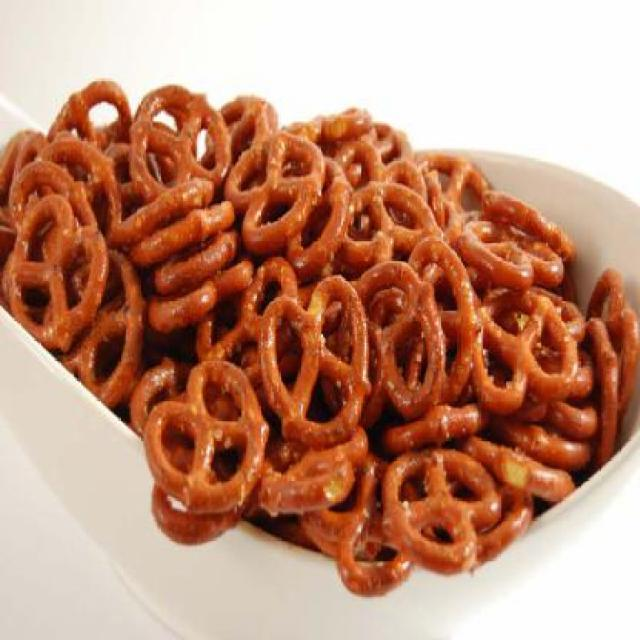Salatini packaged: (6, 78, 640, 600)
